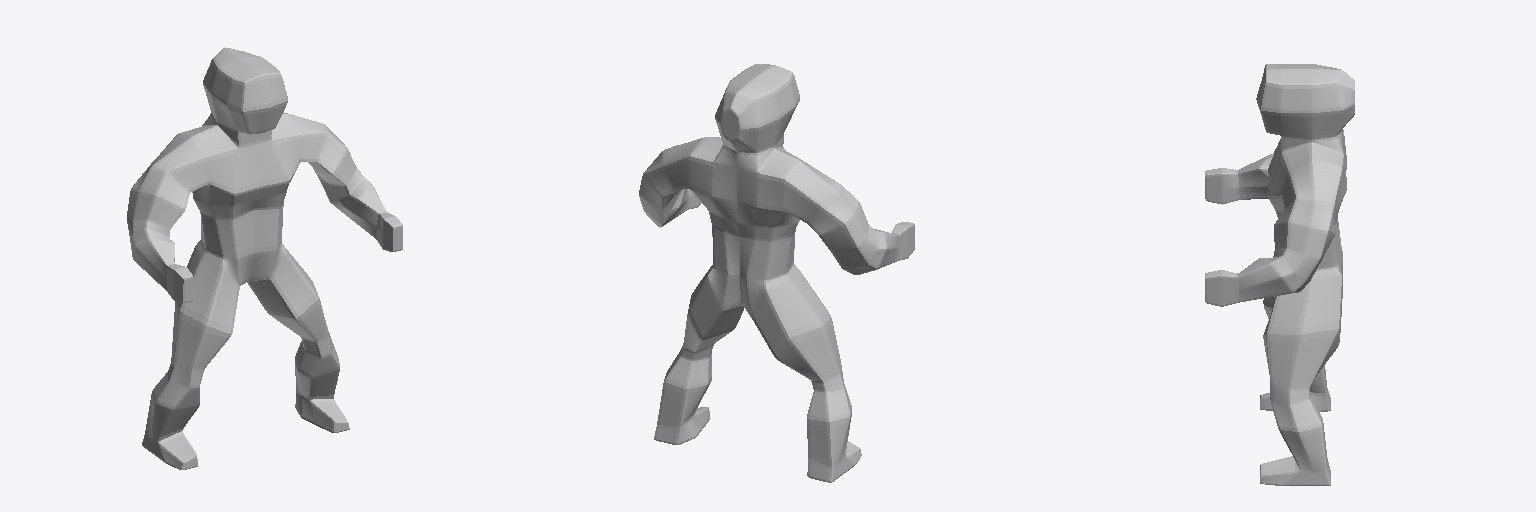
Rendered from figure2.OBJ.
3 renders of one model, left to right at view 1: azimuth 30°, elevation 25°; view 2: azimuth 150°, elevation 25°; view 3: azimuth 270°, elevation 25°, orthographic.
Parts seen in each view (by area): view 1: ZBrush_defualt_group; view 2: ZBrush_defualt_group; view 3: ZBrush_defualt_group.
Part boxes in pixels (x1,y1,x2,y2): ZBrush_defualt_group: (127,47,402,469); ZBrush_defualt_group: (639,64,914,482); ZBrush_defualt_group: (1205,64,1354,485).
Bounding box in the file's own units: 1.34 × 2 × 0.7294.